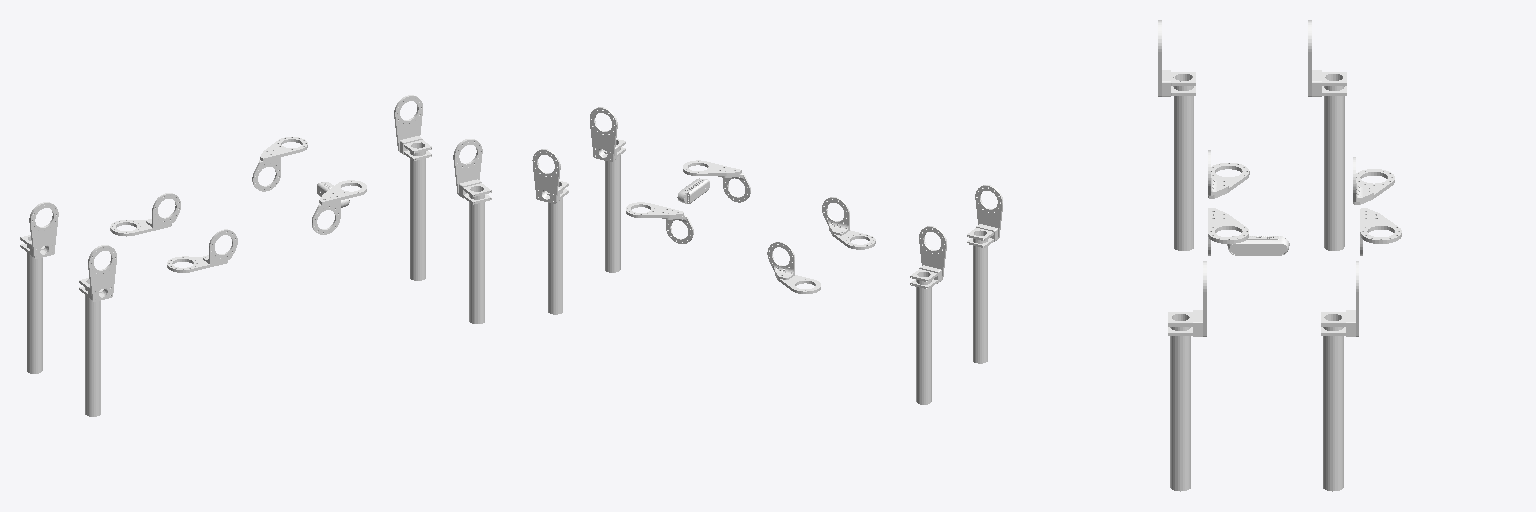
URDF robot description (s1):
<?xml version="1.0" encoding="utf-8"?>
<!-- This URDF was automatically created by SolidWorks to URDF Exporter! Originally created by [author] ([email redacted]) 
     Commit Version: 1.6.0-4-g7f85cfe  Build Version: 1.6.7995.38578
     For more information, please see http://wiki.ros.org/sw_urdf_exporter -->
<robot name="s1">

  <link name="base">
    <visual>
      <origin xyz="0 0 0" rpy="-1.57 0 0" />
      <geometry>
        <mesh filename="../meshes/base.STL" />
      </geometry>
      <material name="">
        <color rgba="1 1 1 1" />
      </material>
    </visual>
    <collision>
      <origin xyz="0 0 0" rpy="0 0 0" />
      <geometry>
        <box size="0.304 0.304 0.109" />
      </geometry>
    </collision>
    <!-- Shell self filtering -->
    <self_filter>
      <origin rpy="0 0 0" xyz="0 0 0"/>
      <geometry>
        <box size="0.304 0.304 0.109" />
      </geometry>
    </self_filter>
  </link>

  <!-- Fixed joint to add dummy inertia link -->
  <joint name="base_to_base_inertia" type="fixed">
    <parent link="base"/>
    <child link="base_inertia"/>
    <origin rpy="0 0 0" xyz="0 0 0"/>
  </joint>

  <!-- Dummy inertia link, because KDL cannot have inertia on the base link -->
  <link name="base_inertia">
    <inertial>
      <origin xyz="-0.0053069 -9.5983E-05 0.024681" rpy="0 0 0" />
      <mass value="8.956765" />
      <inertia ixx="0.109196" ixy="0.0" ixz="0.0" iyy="0.084796" iyz="0.0" izz="0.159461" />
    </inertial>
  </link>

  <joint name="RR_hip_joint" type="revolute">
    <origin xyz="-0.11 -0.11 0.025" rpy="0 0 0" />
    <parent link="base" />
    <child link="RR_hip" />
    <axis xyz="0 0 1" />
    <limit lower="-0.2" upper="1.9" effort="30" velocity="30" />
    <dynamics damping="0.0" friction="0.0"/>
  </joint>

  <link name="RR_hip">
    <inertial>
      <origin xyz="-0.030542 0.027829 0.05369" rpy="0 0 0" />
      <mass value="0.030452" />
      <inertia ixx="0.000224" ixy="0.000052" ixz="0.000091" iyy="0.000261" iyz="-0.000082" izz="0.000147" />
    </inertial>
    <visual>
      <origin xyz="0 0 0" rpy="-1.57 0 0" />
      <geometry>
        <mesh filename="../meshes/RR_hip.STL" />
      </geometry>
      <material name="">
        <color rgba="1 1 1 1" />
      </material>
    </visual>
  </link>


  <link name="RR_thigh">
    <inertial>
      <origin xyz="-0.11489 0.0056875 -9.5378E-05" rpy="0 0 0" />
      <mass value="0.60857" />
      <inertia ixx="0.002300" ixy="0.003904" ixz="-0.000021" iyy="0.064706" iyz="-0.0" izz="0.064476" />
    </inertial>
    <visual>
      <origin xyz="0 0 0" rpy="-1.57 0 0" />
      <geometry>
        <mesh filename="../meshes/RR_thigh.STL" />
      </geometry>
      <material name="">
        <color rgba="1 1 1 1" />
      </material>
    </visual>
  </link>

  <joint name="RR_thigh_joint" type="revolute">
    <origin xyz="-0.07 0.0015 0.067" rpy="0 0 0" />
    <parent link="RR_hip" />
    <child link="RR_thigh" />
    <axis xyz="0 -1 0" />
    <limit lower="-1.57" upper="0.785" effort="30" velocity="30" />
    <dynamics damping="0.0" friction="0.0"/>
  </joint>

  <link name="RR_calf">
    <inertial>
      <origin xyz="-0.13117 0.010092 9.4369E-16" rpy="0 0 0" />
      <mass value="0.081935" />
      <inertia ixx="0.001142" ixy="-0.000178" ixz="-0.0" iyy="0.111728" iyz="-0.0" izz="0.111757" />
    </inertial>
    <visual>
      <origin xyz="0 0 0" rpy="0 0 0" />
      <geometry>
        <mesh filename="../meshes/RR_calf.STL" />
      </geometry>
      <material name="">
        <color rgba="1 1 1 1" />
      </material>
    </visual>
  </link>

  <joint name="RR_calf_joint" type="revolute">
    <origin xyz="-0.23 0 0" rpy="3.1416 -1.5708 0" />
    <parent link="RR_thigh" />
    <child link="RR_calf" />
    <axis xyz="0 -1 0" />
    <limit lower="-0.785" upper="1.57" effort="30" velocity="30" />
    <dynamics damping="0.0" friction="0.0"/>
  </joint>

  <link name="RR_foot">
    <inertial>
      <origin xyz="-0.0058146 6.2104E-06 8.9794E-07" rpy="0 0 0" />
      <mass value="0.15496" />
      <inertia ixx="0.001143" ixy="0.000325" ixz="-0.000237" iyy="0.009828" iyz="0.000015" izz="0.009837" />
    </inertial>
    <visual>
      <origin xyz="0 0 0" rpy="0 0 0" />
      <geometry>
        <mesh filename="../meshes/RR_foot.STL" />
      </geometry>
      <material name="">
        <color rgba="1 1 1 1" />
      </material>
    </visual>
    <collision>
      <origin xyz="0 0 0" rpy="0 0 0" />
      <geometry>
        <box size="0.108 0.108 0.108" />
      </geometry>
    </collision>
  </link>

  <joint name="RR_foot_joint" type="fixed">
    <origin xyz="-0.36572 -0.00075 0" rpy="0 0 0" />
    <parent link="RR_calf" />
    <child link="RR_foot" />
    <axis xyz="0 0 0" />
  </joint>

  <link name="FR_hip">
    <inertial>
      <origin xyz="0.030542 -0.027829 0.05369" rpy="0 0 0" />
      <mass value="0.030452" />
      <inertia ixx="0.000224" ixy="0.000052" ixz="-0.000091" iyy="0.000261" iyz="0.000082" izz="0.000147" />
    </inertial>
    <visual>
      <origin xyz="0 0 0" rpy="-1.57 0 0" />
      <geometry>
        <mesh filename="../meshes/FR_hip.STL" />
      </geometry>
      <material name="">
        <color rgba="1 1 1 1" />
      </material>
    </visual>
  </link>

  <joint name="FR_hip_joint" type="revolute">
    <origin xyz="0.11 -0.11 0.025" rpy="0 0 0" />
    <parent link="base" />
    <child link="FR_hip" />
    <axis xyz="0 0 -1" />
    <limit lower="-0.2" upper="1.9" effort="30" velocity="30" />
    <dynamics damping="0.0" friction="0.0"/>
  </joint>

  <link name="FR_thigh">
    <inertial>
      <origin xyz="0.11489 -0.0056875 -9.5378E-05" rpy="0 0 0" />
      <mass value="0.60857" />
      <inertia ixx="0.002300" ixy="0.003904" ixz="0.000021" iyy="0.064706" iyz="-0.0" izz="0.064476" />
    </inertial>
    <visual>
      <origin xyz="0 0 0" rpy="-1.57 0 0" />
      <geometry>
        <mesh filename="../meshes/FR_thigh.STL" />
      </geometry>
      <material name="">
        <color rgba="1 1 1 1" />
      </material>
    </visual>
  </link>

  <joint name="FR_thigh_joint" type="revolute">
    <origin xyz="0.07 -0.0015 0.067" rpy="0 0 0" />
    <parent link="FR_hip" />
    <child link="FR_thigh" />
    <axis xyz="0 -1 0" />
    <limit lower="-0.785" upper="1.57" effort="30" velocity="30" />
    <dynamics damping="0.0" friction="0.0"/>
  </joint>

  <link name="FR_calf">
    <inertial>
      <origin xyz="-0.13117 -0.010092 -8.3267E-16" rpy="0 0 0" />
      <mass value="0.081935" />
      <inertia ixx="0.001142" ixy="0.000178" ixz="-0.0" iyy="0.111728" iyz="-0.0" izz="0.111757" />
    </inertial>
    <visual>
      <origin xyz="0 0 0" rpy="0 0 0" />
      <geometry>
        <mesh filename="../meshes/FR_calf.STL" />
      </geometry>
      <material name="">
        <color rgba="1 1 1 1" />
      </material>
    </visual>
  </link>

  <joint name="FR_calf_joint" type="revolute">
    <origin xyz="0.23 0 0" rpy="3.1416 -1.5708 0" />
    <parent link="FR_thigh" />
    <child link="FR_calf" />
    <axis xyz="0 1 0" />
    <limit lower="-0.785" upper="1.57" effort="30" velocity="30" />
    <dynamics damping="0.0" friction="0.0"/>
  </joint>

  <link name="FR_foot">
    <inertial>
      <origin xyz="-0.0058163 -3.925E-06 4.9294E-06" rpy="0 0 0" />
      <mass value="0.15495" />
      <inertia ixx="0.001143" ixy="0.000042" ixz="0.000400" iyy="0.009848" iyz="-0.000003" izz="0.009818" />
    </inertial>
    <visual>
      <origin xyz="0 0 0" rpy="0 0 0" />
      <geometry>
        <mesh filename="../meshes/FR_foot.STL" />
      </geometry>
      <material name="">
        <color rgba="1 1 1 1" />
      </material>
    </visual>
    <collision>
      <origin xyz="0 0 0" rpy="0 0 0" />
      <geometry>
        <box size="0.108 0.108 0.108" />
      </geometry>
    </collision>
  </link>

  <joint name="FR_foot_joint" type="fixed">
    <origin xyz="-0.36572 0.00075 0" rpy="0 0 0" />
    <parent link="FR_calf" />
    <child link="FR_foot" />
    <axis xyz="0 0 0" />
  </joint>

  <!-- Drive output link -->
  <link name="FL_hip">
    <inertial>
      <origin xyz="0.030542 -0.027829 0.05369" rpy="0 0 0" />
      <mass value="0.030452" />
      <inertia ixx="0.000224" ixy="0.000052" ixz="-0.000091" iyy="0.000261" iyz="0.000082" izz="0.000147" />
    </inertial>
    <visual>
      <origin xyz="0 0 0" rpy="-1.57 0 0" />
      <geometry>
        <mesh filename="../meshes/FL_hip.STL" />
      </geometry>
      <material name="">
        <color rgba="1 1 1 1" />
      </material>
    </visual>
  </link>

  <joint name="FL_hip_joint" type="revolute">
    <origin xyz="0.11 0.11 0.025" rpy="0 0 0" />
    <parent link="base" />
    <child link="FL_hip" />
    <axis xyz="0 0 1" />
    <limit lower="-0.2" upper="1.9" effort="30" velocity="30" />
    <dynamics damping="0.0" friction="0.0"/>
  </joint>

  <link name="FL_thigh">
    <inertial>
      <origin xyz="0.11489 -0.0056875 -9.5378E-05" rpy="0 0 0" />
      <mass value="0.60857" />
      <inertia ixx="0.002300" ixy="0.003904" ixz="0.000021" iyy="0.064706" iyz="-0.0" izz="0.064476" />
    </inertial>
    <visual>
      <origin xyz="0 0 0" rpy="-1.57 0 0" />
      <geometry>
        <mesh filename="../meshes/FL_thigh.STL" />
      </geometry>
      <material name="">
        <color rgba="1 1 1 1" />
      </material>
    </visual>
  </link>

  <joint name="FL_thigh_joint" type="revolute">
    <origin xyz="0.07 -0.0015 0.067" rpy="0 0 0" />
    <parent link="FL_hip" />
    <child link="FL_thigh" />
    <axis xyz="0 -1 0" />
    <limit lower="-0.785" upper="1.57" effort="30" velocity="30" />
    <dynamics damping="0.0" friction="0.0"/>
  </joint>

  <link name="FL_calf">
    <inertial>
      <origin xyz="-0.13117 -0.010092 -9.4369E-16" rpy="0 0 0" />
      <mass value="0.081935" />
      <inertia ixx="0.001142" ixy="0.000178" ixz="-0.0" iyy="0.111728" iyz="-0.0" izz="0.111757" />
    </inertial>
    <visual>
      <origin xyz="0 0 0" rpy="0 0 0" />
      <geometry>
        <mesh filename="../meshes/FL_calf.STL" />
      </geometry>
      <material name="">
        <color rgba="1 1 1 1" />
      </material>
    </visual>
  </link>

  <joint name="FL_calf_joint" type="revolute">
    <origin xyz="0.23 0 0" rpy="3.1416 -1.5708 0" />
    <parent link="FL_thigh" />
    <child link="FL_calf" />
    <axis xyz="0 -1 0" />
    <limit lower="-1.57" upper="0.785" effort="30" velocity="30" />
    <dynamics damping="0.0" friction="0.0"/>
  </joint>

  <link name="FL_foot">
    <inertial>
      <origin xyz="-0.0058152 -5.6504E-06 2.7691E-06" rpy="0 0 0" />
      <mass value="0.15496" />
      <inertia ixx="0.001143" ixy="-0.000134" ixz="0.000380" iyy="0.009844" iyz="0.000010" izz="0.009821" />
    </inertial>
    <visual>
      <origin xyz="0 0 0" rpy="0 0 0" />
      <geometry>
        <mesh filename="../meshes/FL_foot.STL" />
      </geometry>
      <material name="">
        <color rgba="1 1 1 1" />
      </material>
    </visual>
    <collision>
      <origin xyz="0 0 0" rpy="0 0 0" />
      <geometry>
        <box size="0.108 0.108 0.108" />
      </geometry>
    </collision>
  </link>

  <joint name="FL_foot_joint" type="fixed">
    <origin xyz="-0.36572 0.00075 0" rpy="0 0 0" />
    <parent link="FL_calf" />
    <child link="FL_foot" />
    <axis xyz="0 0 0" />
  </joint>

  <link name="RL_hip">
    <inertial>
      <origin xyz="-0.030542 0.037829 0.05369" rpy="0 0 0" />
      <mass value="0.030452" />
      <inertia ixx="0.000260" ixy="0.000066" ixz="0.000091" iyy="0.000261" iyz="-0.000113" izz="0.000182" />
    </inertial>
    <visual>
      <origin xyz="0 0 0" rpy="-1.57 0 0" />
      <geometry>
        <mesh filename="../meshes/RL_hip.STL" />
      </geometry>
      <material name="">
        <color rgba="1 1 1 1" />
      </material>
    </visual>
  </link>

  <joint name="RL_hip_joint" type="revolute">
    <origin xyz="-0.11 0.1 0.025" rpy="0 0 0" />
    <parent link="base" />
    <child link="RL_hip" />
    <axis xyz="0 0 -1" />
    <limit lower="-0.2" upper="1.9" effort="30" velocity="30" />
    <dynamics damping="0.0" friction="0.0"/>
  </joint>

  <link name="RL_thigh">
    <inertial>
      <origin xyz="-0.11511 0.0056875 9.5378E-05" rpy="0 0 0" />
      <mass value="0.60857" />
      <inertia ixx="0.002300" ixy="0.003899" ixz="0.000027" iyy="0.064754" iyz="-0.0" izz="0.064525" />
    </inertial>
    <visual>
      <origin xyz="0 0 0" rpy="-1.57 0 0" />
      <geometry>
        <mesh filename="../meshes/RL_thigh.STL" />
      </geometry>
      <material name="">
        <color rgba="1 1 1 1" />
      </material>
    </visual>
  </link>

  <joint name="RL_thigh_joint" type="revolute">
    <origin xyz="-0.07 0.0115 0.067" rpy="0 0 0" />
    <parent link="RL_hip" />
    <child link="RL_thigh" />
    <axis xyz="0 1 0" />
    <limit lower="-0.785" upper="1.57" effort="30" velocity="30" />
    <dynamics damping="0.0" friction="0.0"/>
  </joint>

  <link name="RL_calf">
    <inertial>
      <origin xyz="-0.13117 0.013092 1.6653E-16" rpy="0 0 0" />
      <mass value="0.081935" />
      <inertia ixx="0.001153" ixy="0.000713" ixz="-0.0" iyy="0.111728" iyz="-0.0" izz="0.111768" />
    </inertial>
    <visual>
      <origin xyz="0 0 0" rpy="0 0 0" />
      <geometry>
        <mesh filename="../meshes/RL_calf.STL" />
      </geometry>
      <material name="">
        <color rgba="1 1 1 1" />
      </material>
    </visual>
  </link>

  <joint name="RL_calf_joint" type="revolute">
    <origin xyz="-0.23 0 0" rpy="3.1416 -1.5708 0" />
    <parent link="RL_thigh" />
    <child link="RL_calf" />
    <axis xyz="0 1 0" />
    <limit lower="-1.57" upper="0.785" effort="30" velocity="30" />
    <dynamics damping="0.0" friction="0.0"/>
  </joint>

  <link name="RL_foot">
    <inertial>
      <origin xyz="-0.0058146 -2.4605E-06 -5.7726E-06" rpy="0 0 0" />
      <mass value="0.15496" />
      <inertia ixx="0.001143" ixy="-0.000372" ixz="-0.000154" iyy="0.009822" iyz="-0.000011" izz="0.009843" />
    </inertial>
    <visual>
      <origin xyz="0 0 0" rpy="0 0 0" />
      <geometry>
        <mesh filename="../meshes/RL_foot.STL" />
      </geometry>
      <material name="">
        <color rgba="1 1 1 1" />
      </material>
    </visual>
    <collision>
      <origin xyz="0 0 0" rpy="0 0 0" />
      <geometry>
        <box size="0.108 0.108 0.108" />
      </geometry>
    </collision>
  </link>

  <joint name="RL_foot_joint" type="fixed">
    <origin xyz="-0.36572 0.00225 0" rpy="0 0 0" />
    <parent link="RL_calf" />
    <child link="RL_foot" />
    <axis xyz="0 0 0" />
  </joint>

  <link name="imu_link">
    <inertial>
      <mass value="0.01"/>
      <origin xyz="0 0 0"/>
      <inertia ixx="5.63333333333e-07" ixy="0.0" ixz="0.0" iyy="9.6e-07" iyz="0.0" izz="5.63333333333e-07"/>
    </inertial>
    <visual>
      <origin xyz="0 0 0" rpy="0 0 0" />
      <geometry>
        <mesh filename="../meshes/imu.STL" />
      </geometry>
      <material name="">
        <color rgba="1 1 1 1" />
      </material>
    </visual>
  </link>

  <joint name="imu_joint" type="fixed">
    <origin xyz="0.177016 -0.00063297229597438 0.0340000000000019" rpy="0 0 0" />
    <parent link="base" />
    <child link="imu_link" />
  </joint>

  <link name="imu_col">
    <collision>
      <origin xyz="0 0 0" rpy="0 0 0" />
      <geometry>
        <box size="0.025 0.09 0.025" />
      </geometry>
    </collision>
  </link>

  <joint name="imu_col_joint" type="fixed" dont_collapse="true">
    <origin xyz="-0.0125 0 0" rpy="0 0 0" />
    <parent link="imu_link" />
    <child link="imu_col" />
    <axis xyz="0 -1 0" />
    <limit lower="-2.0" upper="1.0" effort="100" velocity="30" />
  </joint>



  <joint name="RR_hip_col_joint" type="fixed" dont_collapse="true">
    <origin xyz="-0 -0 0" rpy="0 0 0" />
    <parent link="RR_hip" />
    <child link="RR_hip_col" />
    <axis xyz="0 0 1" />
    <limit lower="-0.25" upper="1.85" effort="100" velocity="30" />
  </joint>

  <link name="RR_hip_col">
    <collision>
      <origin xyz="0 0 0" rpy="0 0 0" />
      <geometry>
        <cylinder length="0.08" radius="0.031" />
      </geometry>
    </collision>
  </link>

  <link name="RR_thigh_col">
    <collision>
      <origin xyz="0 0 0" rpy="0 0 0" />
      <geometry>
        <cylinder length="0.31" radius="0.049" />
      </geometry>
    </collision>
  </link>

  <joint name="RR_thigh_col_joint" type="fixed" dont_collapse="true">
    <origin xyz="-0.115 0 0" rpy="0 1.57 0" />
    <parent link="RR_thigh" />
    <child link="RR_thigh_col" />
    <axis xyz="0 -1 0" />
    <limit lower="-2.0" upper="1.0" effort="100" velocity="30" />
  </joint>

  <link name="RR_calf_col">
    <collision>
      <origin xyz="0 0 0" rpy="0 0 0" />
      <geometry>
        <cylinder length="0.29" radius="0.02" />
      </geometry>
    </collision>
  </link>

  <joint name="RR_calf_col_joint" type="fixed" dont_collapse="true">
    <origin xyz="-0.183 0 0" rpy="3.1416 -1.5708 0" />
    <parent link="RR_calf" />
    <child link="RR_calf_col" />
    <axis xyz="0 -1 0" />
    <limit lower="-0.55" upper="2.0" effort="100" velocity="30" />
  </joint>

  <joint name="FR_hip_col_joint" type="fixed" dont_collapse="true">
    <origin xyz="-0 -0 0" rpy="0 0 0" />
    <parent link="FR_hip" />
    <child link="FR_hip_col" />
    <axis xyz="0 0 1" />
    <limit lower="-0.25" upper="1.85" effort="100" velocity="30" />
  </joint>

  <link name="FR_hip_col">
    <collision>
      <origin xyz="0 0 0" rpy="0 0 0" />
      <geometry>
        <cylinder length="0.08" radius="0.031" />
      </geometry>
    </collision>
  </link>

  <link name="FR_thigh_col">
    <collision>
      <origin xyz="0 0 0" rpy="0 0 0" />
      <geometry>
        <cylinder length="0.31" radius="0.049" />
      </geometry>
    </collision>
  </link>

  <joint name="FR_thigh_col_joint" type="fixed" dont_collapse="true">
    <origin xyz="0.115 0 0" rpy="0 1.57 0" />
    <parent link="FR_thigh" />
    <child link="FR_thigh_col" />
    <axis xyz="0 -1 0" />
    <limit lower="-2.0" upper="1.0" effort="100" velocity="30" />
  </joint>

  <link name="FR_calf_col">
    <collision>
      <origin xyz="0 0 0" rpy="0 0 0" />
      <geometry>
        <cylinder length="0.29" radius="0.02" />
      </geometry>
    </collision>
  </link>

  <joint name="FR_calf_col_joint" type="fixed" dont_collapse="true">
    <origin xyz="-0.183 0 0" rpy="3.1416 -1.5708 0" />
    <parent link="FR_calf" />
    <child link="FR_calf_col" />
    <axis xyz="0 -1 0" />
    <limit lower="-0.55" upper="2.0" effort="100" velocity="30" />
  </joint>

  <joint name="FL_hip_col_joint" type="fixed" dont_collapse="true">
    <origin xyz="-0 -0 0" rpy="0 0 0" />
    <parent link="FL_hip" />
    <child link="FL_hip_col" />
    <axis xyz="0 0 1" />
    <limit lower="-0.25" upper="1.85" effort="100" velocity="30" />
  </joint>

  <link name="FL_hip_col">
    <collision>
      <origin xyz="0 0 0" rpy="0 0 0" />
      <geometry>
        <cylinder length="0.08" radius="0.031" />
      </geometry>
    </collision>
  </link>

  <link name="FL_thigh_col">
    <collision>
      <origin xyz="0 0 0" rpy="0 0 0" />
      <geometry>
        <cylinder length="0.31" radius="0.049" />
      </geometry>
    </collision>
  </link>

  <joint name="FL_thigh_col_joint" type="fixed" dont_collapse="true">
    <origin xyz="0.115 0 0" rpy="0 1.57 0" />
    <parent link="FL_thigh" />
    <child link="FL_thigh_col" />
    <axis xyz="0 -1 0" />
    <limit lower="-2.0" upper="1.0" effort="100" velocity="30" />
  </joint>

  <link name="FL_calf_col">
    <collision>
      <origin xyz="0 0 0" rpy="0 0 0" />
      <geometry>
        <cylinder length="0.29" radius="0.02" />
      </geometry>
    </collision>
  </link>

  <joint name="FL_calf_col_joint" type="fixed" dont_collapse="true">
    <origin xyz="-0.183 0 0" rpy="3.1416 -1.5708 0" />
    <parent link="FL_calf" />
    <child link="FL_calf_col" />
    <axis xyz="0 -1 0" />
    <limit lower="-0.55" upper="2.0" effort="100" velocity="30" />
  </joint>

  <joint name="RL_hip_col_joint" type="fixed" dont_collapse="true">
    <origin xyz="-0 -0 0" rpy="0 0 0" />
    <parent link="RL_hip" />
    <child link="RL_hip_col" />
    <axis xyz="0 0 1" />
    <limit lower="-0.25" upper="1.85" effort="100" velocity="30" />
  </joint>

  <link name="RL_hip_col">
    <collision>
      <origin xyz="0 0 0" rpy="0 0 0" />
      <geometry>
        <cylinder length="0.08" radius="0.031" />
      </geometry>
    </collision>
  </link>

  <link name="RL_thigh_col">
    <collision>
      <origin xyz="0 0 0" rpy="0 0 0" />
      <geometry>
        <cylinder length="0.31" radius="0.049" />
      </geometry>
    </collision>
  </link>

  <joint name="RL_thigh_col_joint" type="fixed" dont_collapse="true">
    <origin xyz="-0.115 0 0" rpy="0 1.57 0" />
    <parent link="RL_thigh" />
    <child link="RL_thigh_col" />
    <axis xyz="0 -1 0" />
    <limit lower="-2.0" upper="1.0" effort="100" velocity="30" />
  </joint>

  <link name="RL_calf_col">
    <collision>
      <origin xyz="0 0 0" rpy="0 0 0" />
      <geometry>
        <cylinder length="0.29" radius="0.02" />
      </geometry>
    </collision>
  </link>

  <joint name="RL_calf_col_joint" type="fixed" dont_collapse="true">
    <origin xyz="-0.183 0 0" rpy="3.1416 -1.5708 0" />
    <parent link="RL_calf" />
    <child link="RL_calf_col" />
    <axis xyz="0 -1 0" />
    <limit lower="-0.55" upper="2.0" effort="100" velocity="30" />
  </joint>



</robot>

--- Facts derived from the render (not from the file) ---
Views: 3 orthographic renders of the robot side by side, from view 1: azimuth 30°, elevation 25°; view 2: azimuth 150°, elevation 25°; view 3: azimuth 270°, elevation 25°.
Model s1 with 32 links and 31 joints (12 revolute, 19 fixed), rooted at base, posed every joint at zero.
Visible links, largest first — view 1: FR_calf, FL_calf, RR_calf, RL_calf, FR_hip, FL_hip, RL_hip, RR_hip; view 2: RL_calf, RR_calf, FR_calf, FL_calf, RR_hip, RL_hip, FR_hip, FL_hip; view 3: FR_calf, RL_calf, FL_calf, RR_calf, imu_link, FL_hip, RL_hip, RR_hip, FR_hip.
Boxes of the visible links, x1,y1,x2,y2 form: FR_calf: (453, 139, 491, 323); FL_calf: (394, 95, 431, 280); RR_calf: (79, 245, 116, 416); RL_calf: (20, 202, 58, 373); FR_hip: (312, 180, 366, 234); FL_hip: (252, 137, 307, 191); RL_hip: (110, 193, 180, 236); RR_hip: (167, 229, 237, 272); RL_calf: (910, 226, 946, 404); RR_calf: (967, 185, 1002, 363); FR_calf: (590, 107, 625, 272); FL_calf: (532, 149, 568, 314); RR_hip: (822, 197, 875, 249); RL_hip: (767, 242, 820, 293); FR_hip: (683, 160, 750, 202); FL_hip: (626, 202, 693, 243); FR_calf: (1168, 261, 1206, 491); RL_calf: (1308, 20, 1346, 250); FL_calf: (1321, 261, 1358, 491); RR_calf: (1158, 20, 1195, 250); imu_link: (1227, 236, 1289, 255); FL_hip: (1360, 208, 1401, 255); RL_hip: (1353, 157, 1394, 204); RR_hip: (1208, 150, 1249, 198); FR_hip: (1208, 208, 1248, 255).
Bounding box of the posed robot: 0.8799 × 0.352 × 0.3574 m (x, y, z).
9 mesh visuals loaded from 18 distinct referenced files (9 binary STL); not drawn: 9 (reference not matched to a file when rendering).
